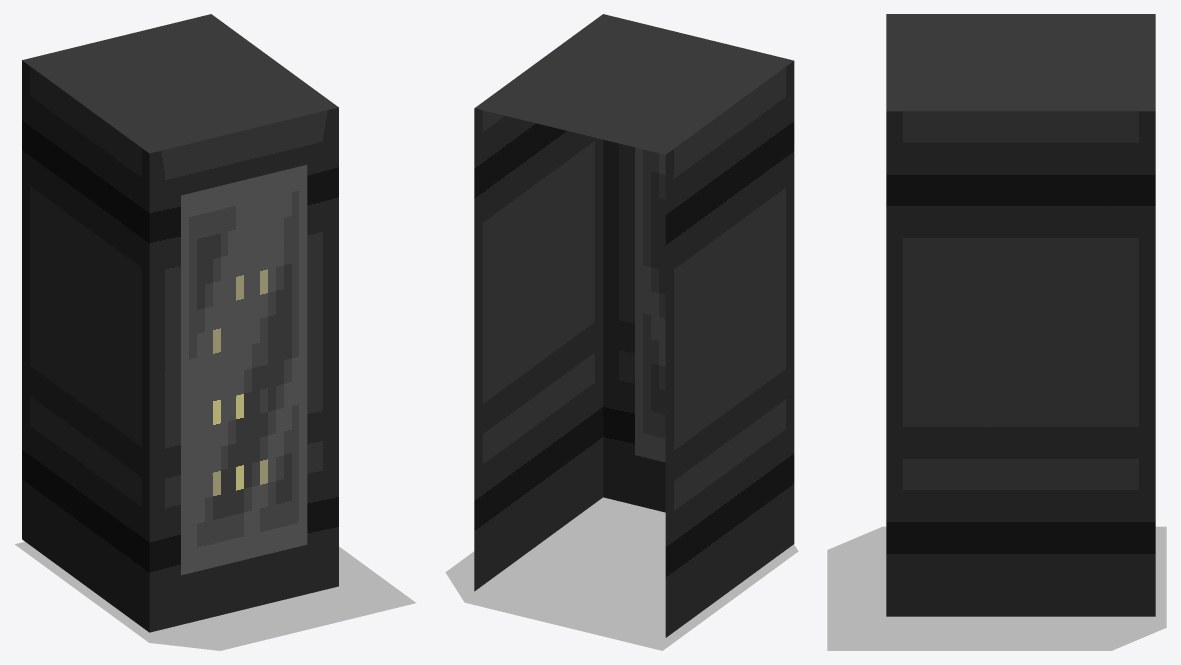
3 renders of one model, left to right at view 1: azimuth 30°, elevation 25°; view 2: azimuth 150°, elevation 25°; view 3: azimuth 270°, elevation 25°, orthographic. The views are drawn at different scales.
Parts seen in each view (by area): view 1: polygon1, polygon0, polygon2; view 2: polygon1, polygon2, polygon0; view 3: polygon1, polygon2.
Boxes of the visible parts, x1=… form: polygon1: x1=22, y1=14, x2=338, y2=632; polygon0: x1=181, y1=165, x2=307, y2=575; polygon2: x1=15, y1=541, x2=415, y2=650; polygon1: x1=474, y1=14, x2=794, y2=637; polygon2: x1=445, y1=497, x2=798, y2=650; polygon0: x1=635, y1=147, x2=665, y2=462; polygon1: x1=886, y1=14, x2=1155, y2=616; polygon2: x1=827, y1=526, x2=1166, y2=650.
Size of the model in its own units: 3.82 by 7.38 by 4.41.
